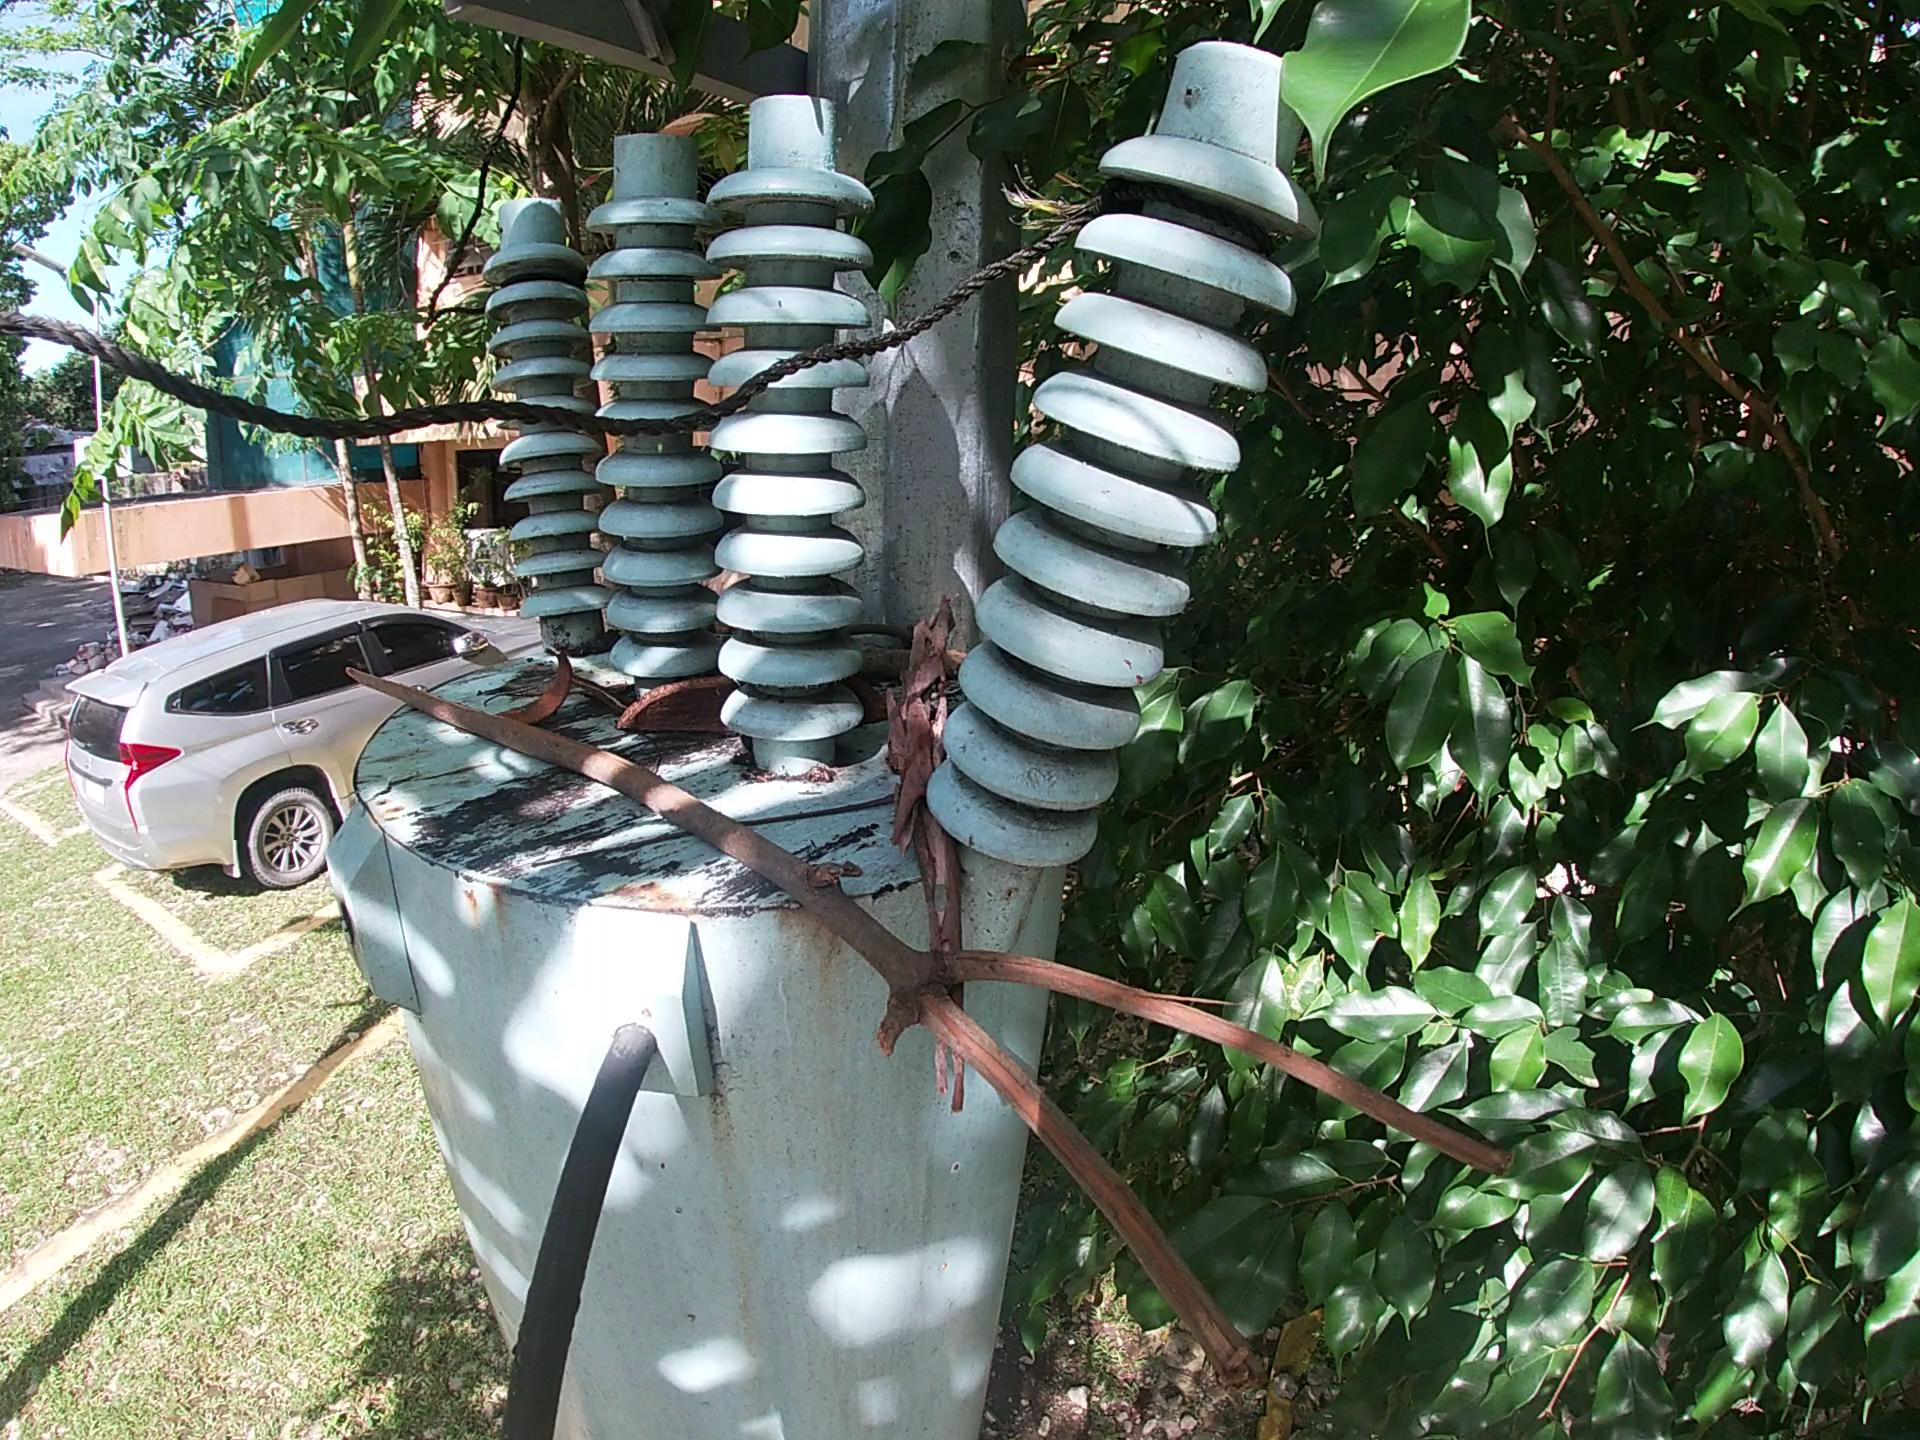mahogany fruit: (615, 672, 893, 744), (491, 646, 581, 728)
tree branch: (324, 646, 1524, 1407), (880, 590, 980, 1119), (860, 646, 969, 681), (841, 620, 919, 650)
